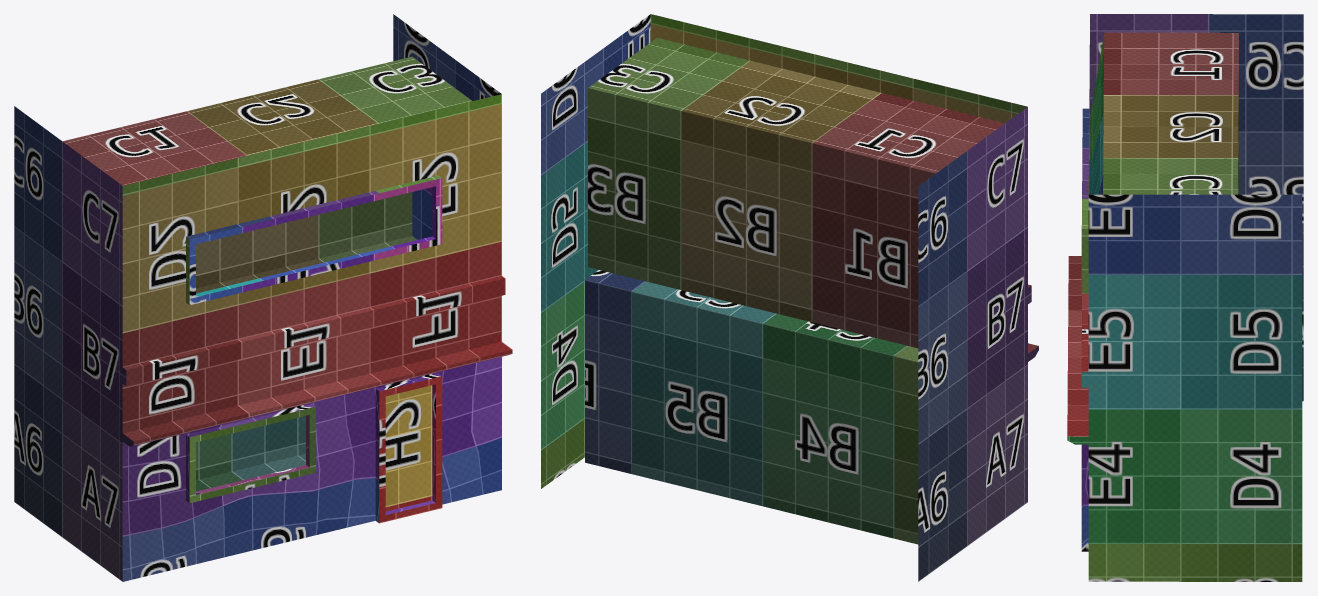
File: casa_01.dae
3 views of the same model, side by side, from view 1: azimuth 30°, elevation 25°; view 2: azimuth 150°, elevation 25°; view 3: azimuth 270°, elevation 25° (orthographic). The views are drawn at different scales.
Parts seen in each view (by area): view 1: Plane_054; view 2: Plane_054; view 3: Plane_054.
Boxes of the visible parts, bbox=[...] form: Plane_054: bbox=[14, 14, 512, 581]; Plane_054: bbox=[541, 14, 1038, 581]; Plane_054: bbox=[1067, 14, 1303, 581].
Size of the model in its own units: 6.01 by 3.32 by 6.
Materials: 1 (1 with a texture image).
